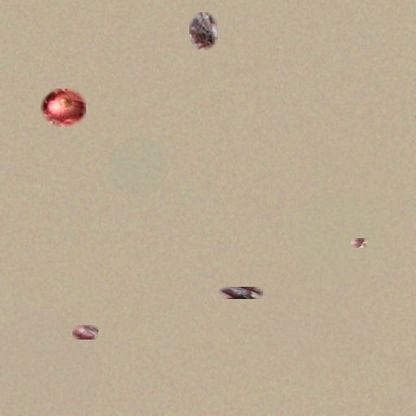healthy: (41, 89, 86, 127)
rotten: (189, 12, 218, 50), (218, 287, 263, 299), (72, 325, 98, 340)
sprouted: (351, 238, 368, 248)
